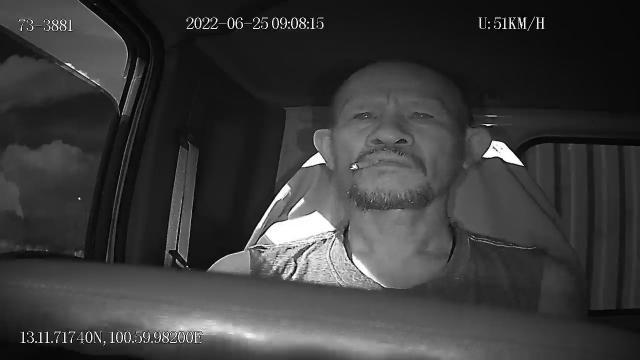SafeDriving: (344, 99, 384, 130), (401, 100, 442, 127)
Smoking: (350, 160, 380, 170)
